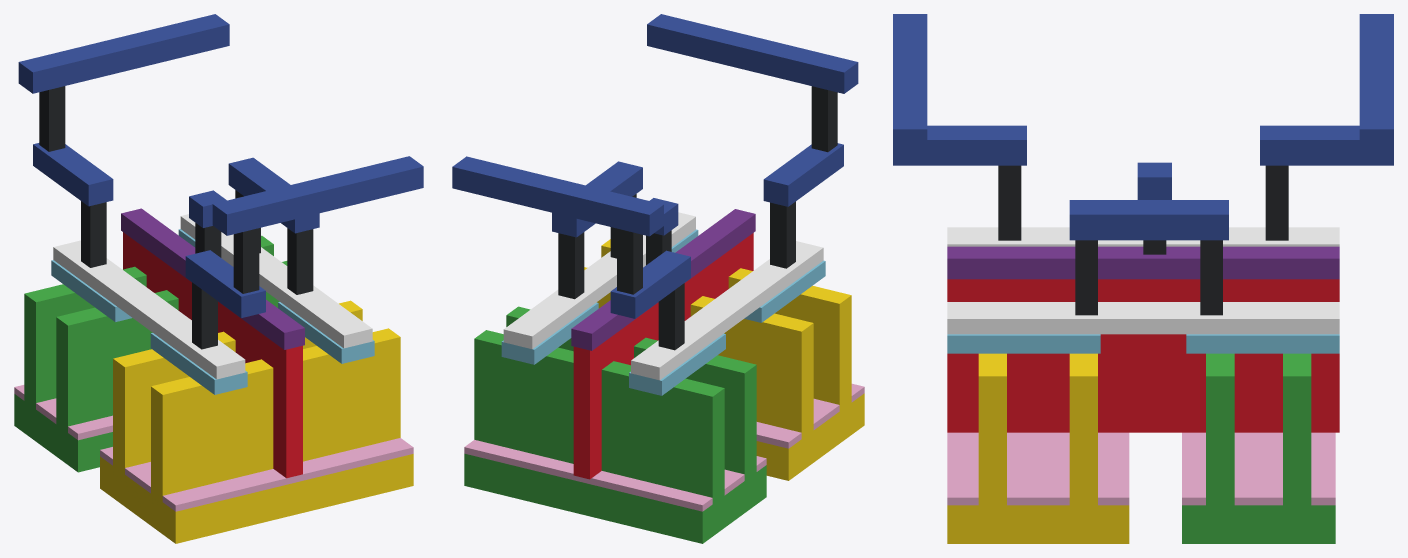
The model's file is 5inv.obj.
3 views of the same model, side by side, from view 1: azimuth 30°, elevation 25°; view 2: azimuth 150°, elevation 25°; view 3: azimuth 270°, elevation 25° (orthographic). The views are drawn at different scales.
Visible parts, largest first — view 1: group_0_16768282, group_0_3888547, group_0_4634441, group_0_16448250, group_0_2829873, group_0_15277357, group_0_15708628, group_0_8768998, group_0_8273816; view 2: group_0_4634441, group_0_3888547, group_0_16768282, group_0_16448250, group_0_2829873, group_0_15277357, group_0_15708628, group_0_8768998, group_0_8273816; view 3: group_0_15277357, group_0_3888547, group_0_16448250, group_0_15708628, group_0_16768282, group_0_4634441, group_0_8273816, group_0_2829873, group_0_8768998.
Boxes of the visible parts, x1,y1,x2,y2 form: group_0_16768282: (100, 300, 413, 543); group_0_3888547: (18, 14, 423, 317); group_0_4634441: (14, 235, 287, 472); group_0_16448250: (53, 214, 372, 379); group_0_2829873: (39, 86, 313, 349); group_0_15277357: (123, 232, 302, 478); group_0_15708628: (14, 385, 413, 511); group_0_8768998: (51, 229, 374, 394); group_0_8273816: (121, 208, 304, 349); group_0_4634441: (464, 306, 766, 543); group_0_3888547: (452, 14, 858, 318); group_0_16768282: (584, 239, 864, 480); group_0_16448250: (503, 212, 823, 380); group_0_2829873: (558, 86, 837, 350); group_0_15277357: (573, 233, 753, 479); group_0_15708628: (464, 383, 864, 511); group_0_8768998: (501, 229, 825, 395); group_0_8273816: (571, 209, 755, 350); group_0_15277357: (947, 279, 1339, 432); group_0_3888547: (893, 14, 1393, 240); group_0_16448250: (947, 227, 1339, 334); group_0_15708628: (947, 432, 1335, 505); group_0_16768282: (947, 353, 1129, 543); group_0_4634441: (1182, 353, 1335, 543); group_0_8273816: (947, 246, 1339, 279); group_0_2829873: (998, 165, 1288, 315); group_0_8768998: (947, 334, 1339, 353).
Size of the model in its own units: 116 by 158 by 176.
